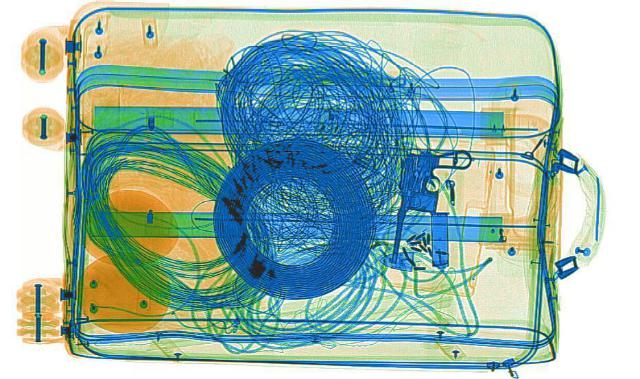Gun: (380, 143, 472, 270)
